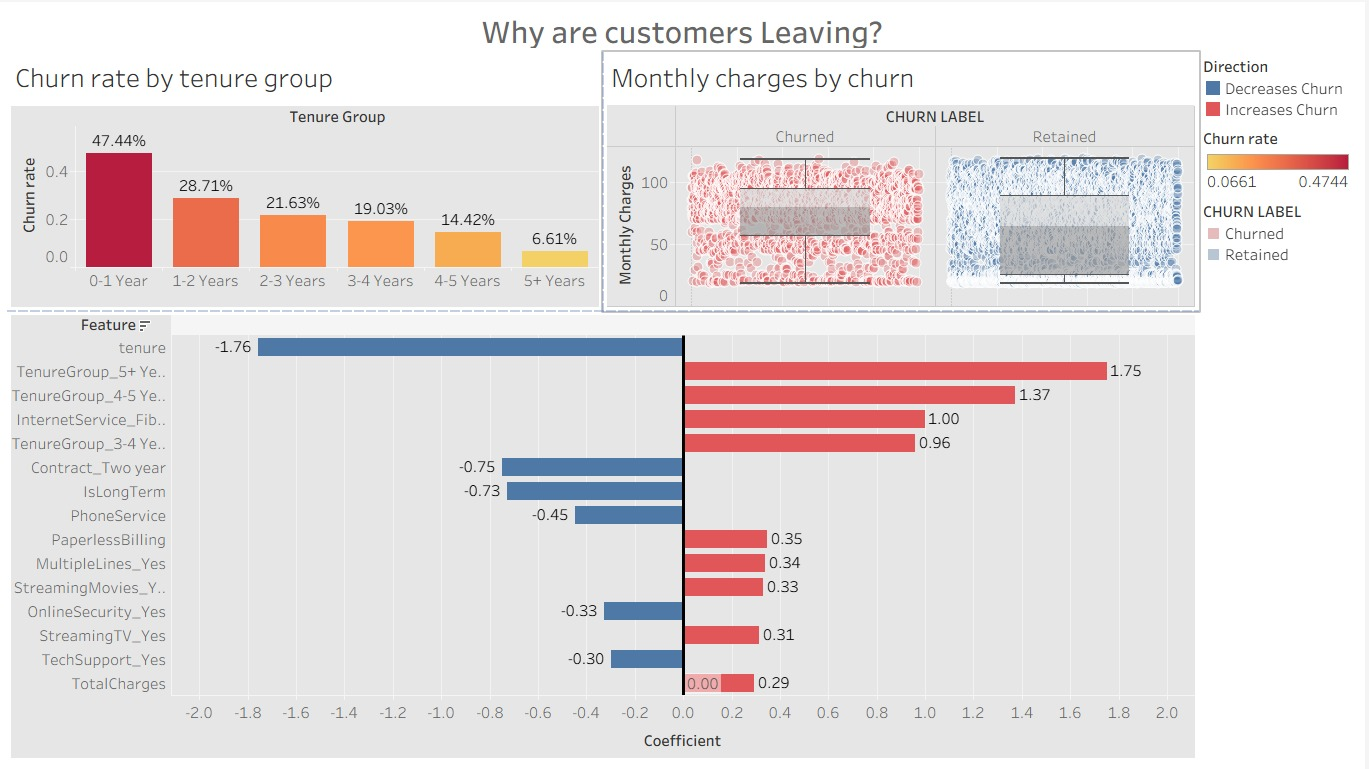

What the dashboard file says about the page in this screenshot:
{"tool":"tableau","page":{"name":"Churn drivers dashboard","canvas":[1366,768],"ordinal":0},"visuals":[{"type":"text","box":[8,8,1350,42]},{"type":"worksheet","title":"Churn rate by tenure group","mark":"Bar","rows":["Calculation_4687559392182272"],"cols":["TenureGroup"],"box":[8,50,596,259]},{"type":"worksheet","title":"Monthly charges by churn","mark":"Circle","rows":["MonthlyCharges"],"cols":["Calculation_4687559393587205","Calculation_4687559412133898"],"box":[604,50,596,259]},{"type":"legend","title":"Churn drivers","param":"[federated.1kttfc61g491eb1e7n7vx1qtsx6u].[none:Direction:nk]","box":[1200,50,158,72]},{"type":"legend","title":"Churn rate by tenure group","param":"[federated.0lqzjfw00e4uwl1774z2b1212a4m].[usr:Calculation_4687559392182272:qk]","box":[1200,122,158,73]},{"type":"legend","title":"Monthly charges by churn","param":"[federated.0lqzjfw00e4uwl1774z2b1212a4m].[none:Calculation_4687559393587205:nk]","box":[1200,195,158,72]},{"type":"worksheet","title":"Churn drivers","mark":"Bar","rows":["Feature"],"cols":["Coefficient"],"box":[8,309,1192,451]}]}

Visuals, with their boxes in screenshot pixels (x1, y1, x2, y2), scaled from the page's 1366x768 canvas onto the 1369x769 screenshot:
text: box(8, 8, 1361, 50)
"Churn rate by tenure group" worksheet (Bar marks): box(8, 50, 605, 309)
"Monthly charges by churn" worksheet (Circle marks): box(605, 50, 1203, 309)
"Churn drivers" legend: box(1203, 50, 1361, 122)
"Churn rate by tenure group" legend: box(1203, 122, 1361, 195)
"Monthly charges by churn" legend: box(1203, 195, 1361, 267)
"Churn drivers" worksheet (Bar marks): box(8, 309, 1203, 761)
